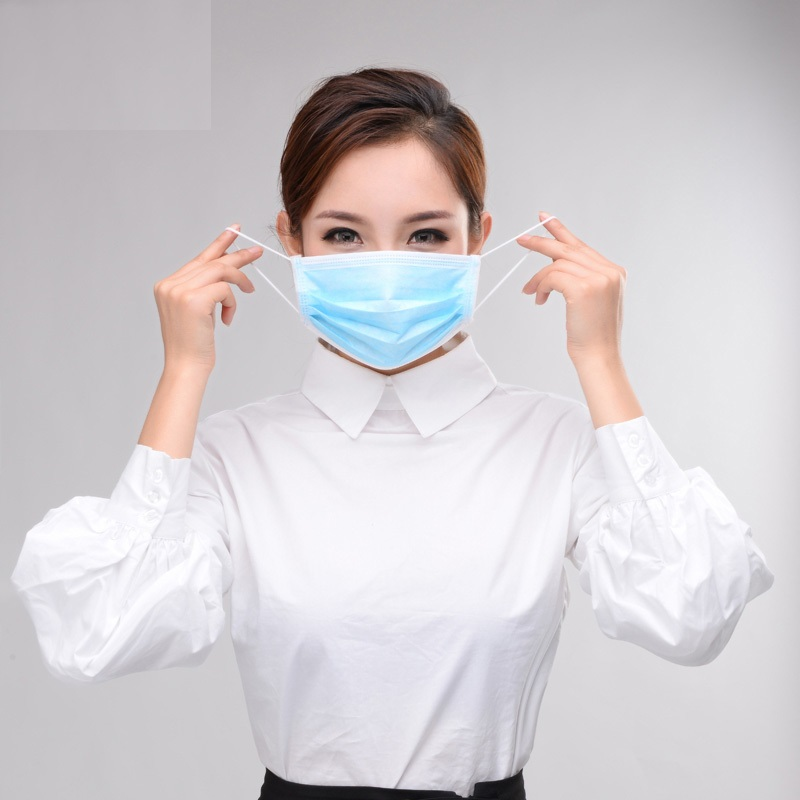face_mask: (297, 134, 471, 360)
